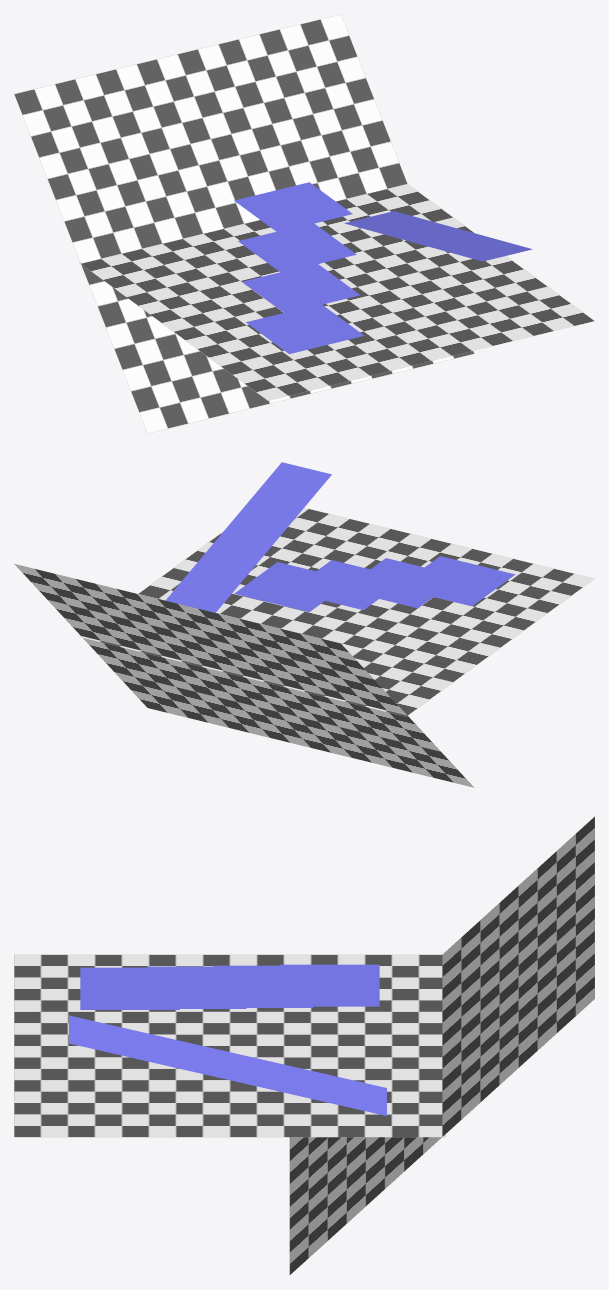
Rendered from quad_staple.obj.
3 views of the same model, one above another, from view 1: azimuth 30°, elevation 25°; view 2: azimuth 150°, elevation 25°; view 3: azimuth 270°, elevation 25° (orthographic). The views are drawn at different scales.
Visible parts, largest first — view 1: Plane07, Plane01, Plane02, Plane06, Plane03, Plane04, Plane05; view 2: Plane07, Plane01, Plane02, Plane06, Plane03, Plane04, Plane05; view 3: Plane01, Plane07, Plane02, Plane06, Plane05, Plane03, Plane04.
Boxes of the visible parts, bbox=[...] form: Plane07: bbox=[14, 14, 474, 433]; Plane01: bbox=[79, 184, 594, 400]; Plane02: bbox=[344, 211, 532, 261]; Plane06: bbox=[234, 182, 352, 232]; Plane03: bbox=[246, 304, 364, 353]; Plane04: bbox=[242, 264, 360, 313]; Plane05: bbox=[238, 223, 356, 272]; Plane07: bbox=[14, 564, 473, 787]; Plane01: bbox=[79, 507, 594, 716]; Plane02: bbox=[165, 462, 331, 612]; Plane06: bbox=[234, 562, 352, 612]; Plane03: bbox=[425, 556, 515, 606]; Plane04: bbox=[370, 558, 460, 608]; Plane05: bbox=[316, 560, 406, 610]; Plane01: bbox=[14, 954, 445, 1137]; Plane07: bbox=[289, 816, 594, 1274]; Plane02: bbox=[69, 1015, 386, 1115]; Plane06: bbox=[280, 964, 379, 1006]; Plane05: bbox=[213, 965, 312, 1007]; Plane03: bbox=[80, 967, 179, 1009]; Plane04: bbox=[147, 966, 246, 1008].
Size of the model in its own units: 130 by 91.92 by 175.
Materials: 2 (1 with a texture image).
